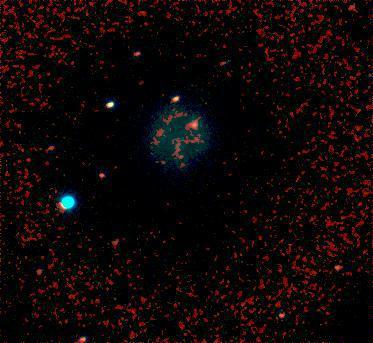star: (36, 132, 66, 162)
